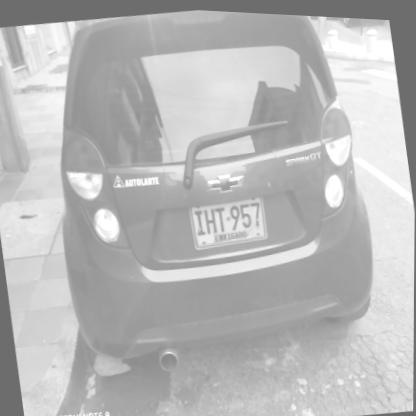placa: (181, 183, 276, 257)
